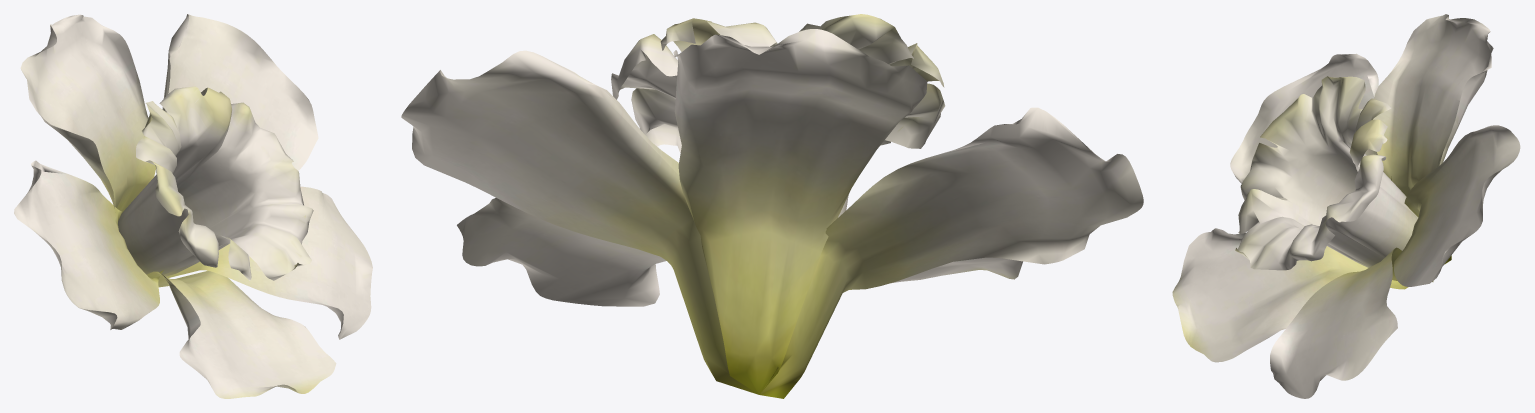
3 views of the same model, side by side, from view 1: azimuth 30°, elevation 25°; view 2: azimuth 150°, elevation 25°; view 3: azimuth 270°, elevation 25° (orthographic). The views are drawn at different scales.
Parts seen in each view (by area): view 1: G-Ellipse164 70% 70% 70% 70%.007; view 2: G-Ellipse164 70% 70% 70% 70%.007; view 3: G-Ellipse164 70% 70% 70% 70%.007.
Boxes of the visible parts, x1=… form: G-Ellipse164 70% 70% 70% 70%.007: x1=14, y1=14, x2=372, y2=398; G-Ellipse164 70% 70% 70% 70%.007: x1=401, y1=14, x2=1143, y2=398; G-Ellipse164 70% 70% 70% 70%.007: x1=1172, y1=14, x2=1520, y2=398.
Bounding box in the file's own units: 1.19 × 0.8823 × 1.01.
1 material, 1 textured.
